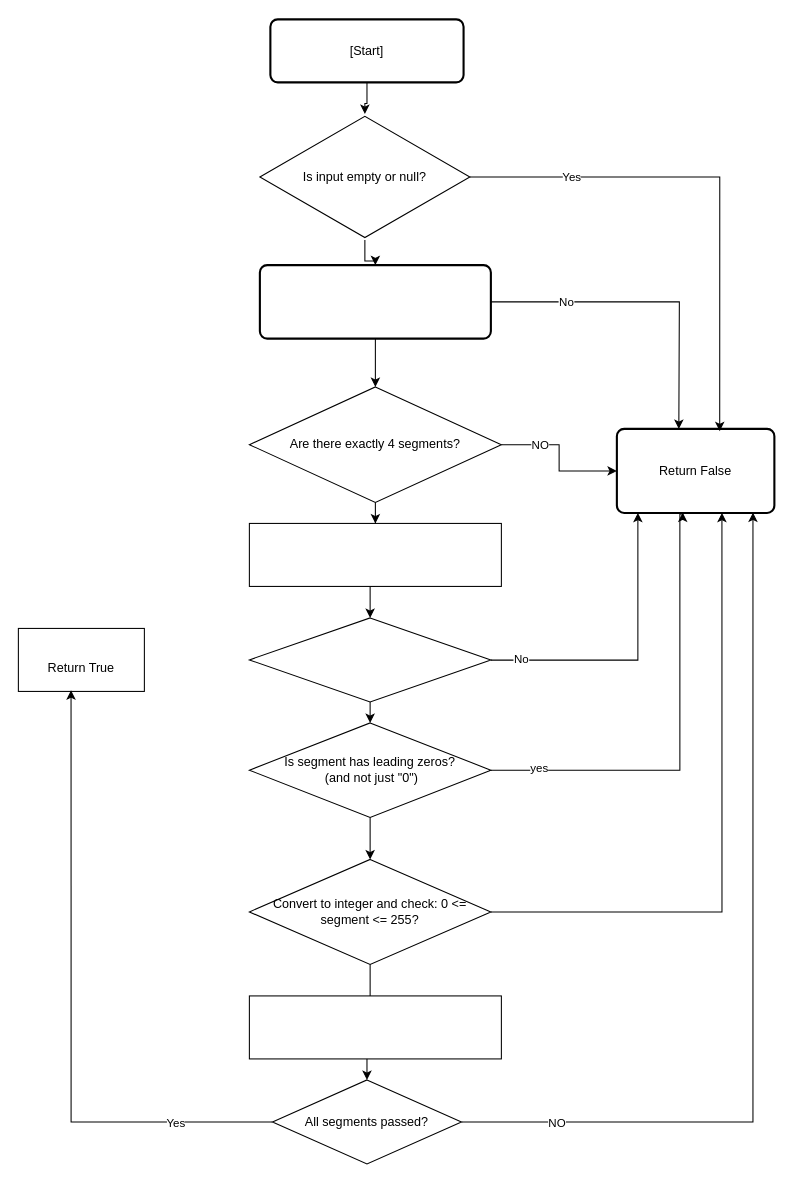
The diagram is 794 pixels wide and 1182 high, and some of its shapes have lost their labels. The box of each missing label's shape, as (x1, y1, x2, y2) in pixels:
For each segment:: (248, 522, 501, 586)
Is segment only digits?: (248, 617, 491, 702)
Repeat for next segment: (248, 995, 501, 1059)
Split input by "." into segments: (258, 264, 491, 339)
